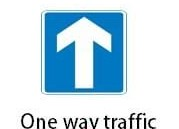Traffic signal: (40, 8, 129, 96)
